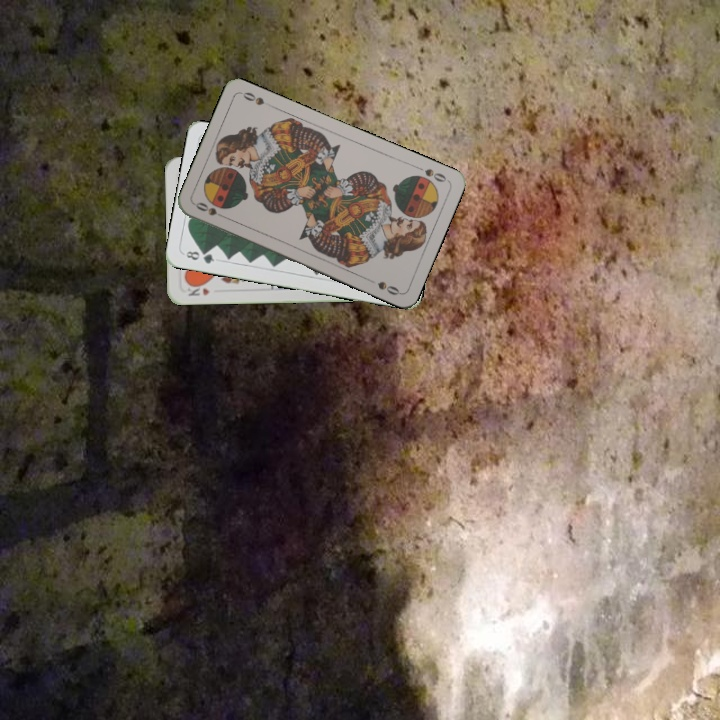G8: (182, 247, 217, 266)
HK: (184, 280, 212, 298)
SO: (192, 198, 230, 222), (412, 162, 450, 185)
